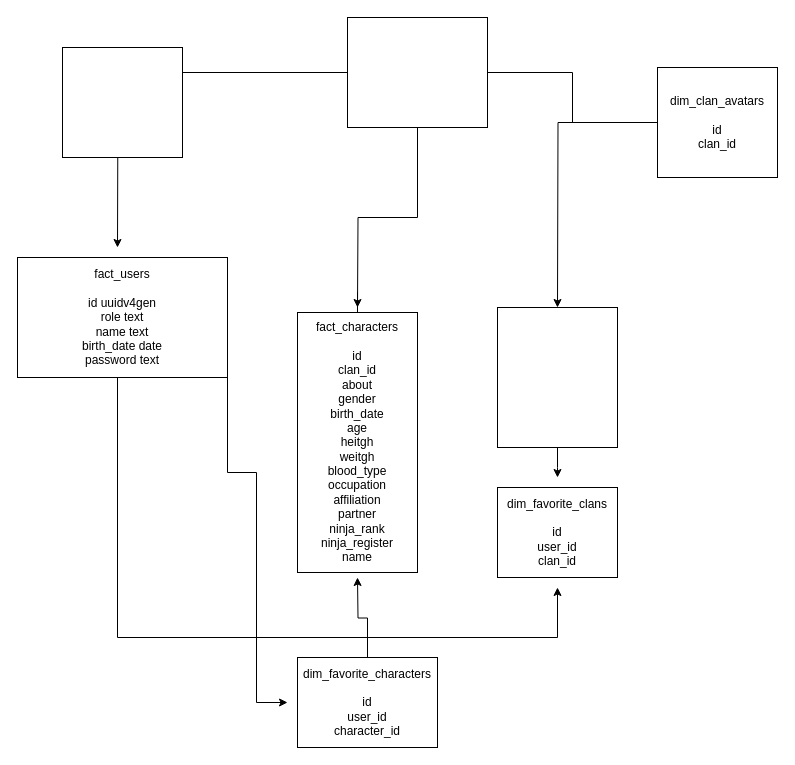
The diagram is 795 pixels wide and 765 high, and some of its shapes have lost their labels. Here are the shapes that lost their labels. From the top down, the centre of each, then its label:
At (x=417, y=72): "dim_character_avatars id character_id".
At (x=122, y=102): "dim_user_avatars id user_id".
At (x=557, y=377): "fact_clans id profile_page_link name".
